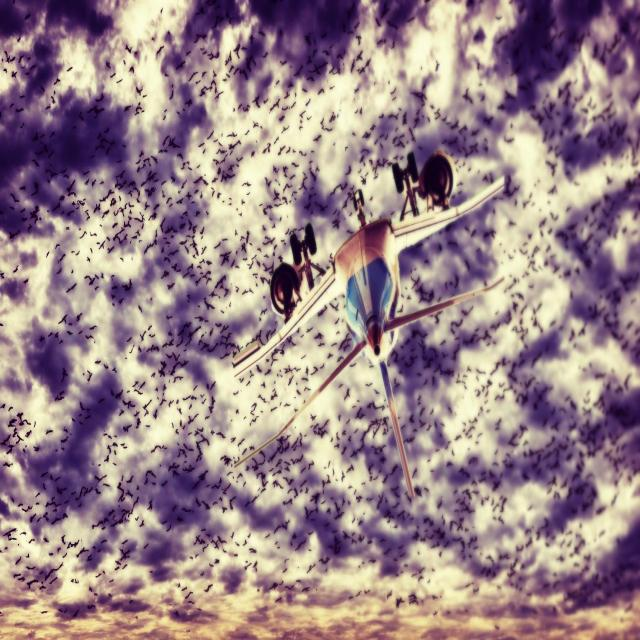airplane: (230, 147, 506, 502)
